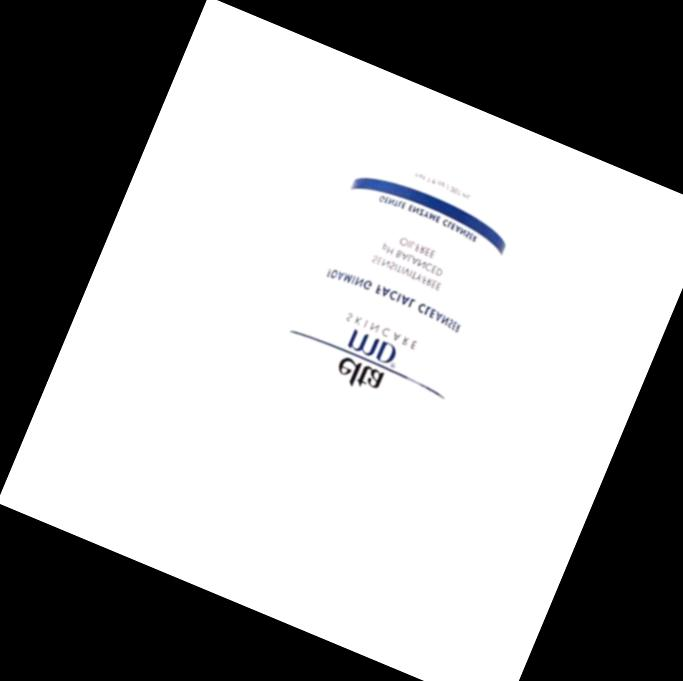cosmetic: (207, 119, 536, 603)
